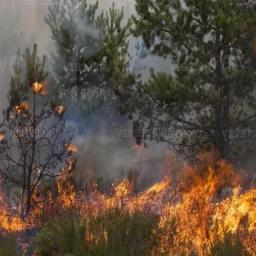Low smoke: (0, 0, 190, 190)
Small fire: (1, 158, 256, 253)
